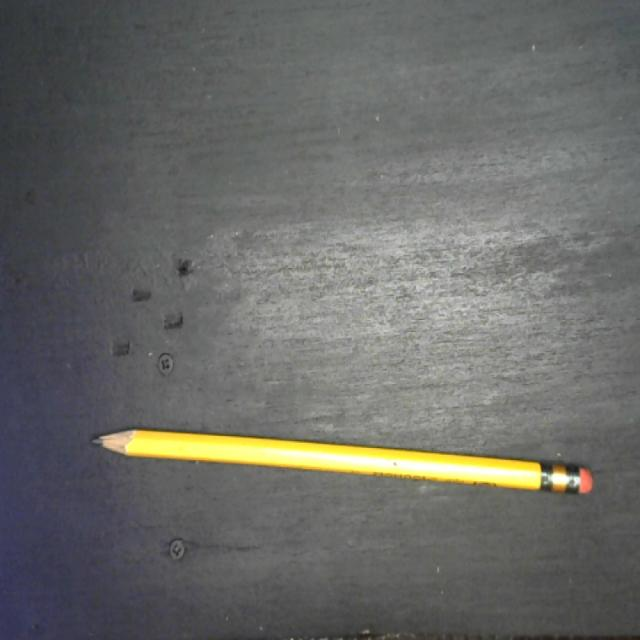biodegradable: (87, 423, 597, 502)
